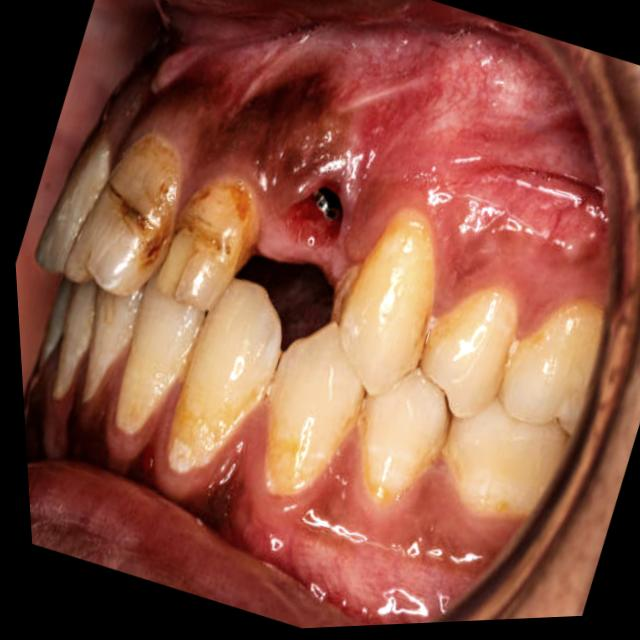calculus: (265, 378, 358, 494), (111, 135, 183, 268), (168, 377, 265, 473), (176, 181, 259, 264), (330, 263, 361, 323)
gingivitis: (128, 73, 397, 264), (24, 353, 264, 539)
